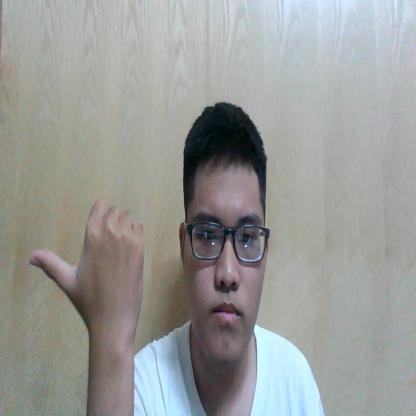right: (31, 199, 147, 335)
